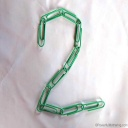Metal: (25, 1, 108, 121)
